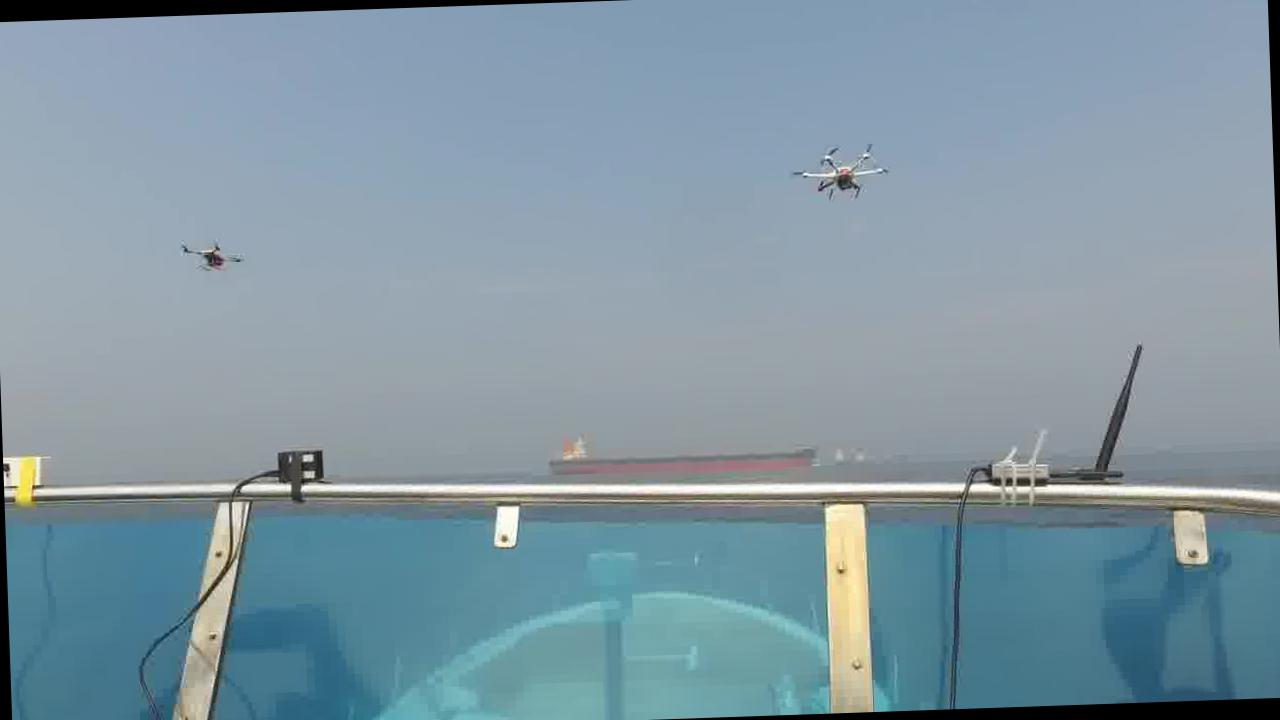drone: (789, 136, 888, 202), (178, 237, 244, 277)
